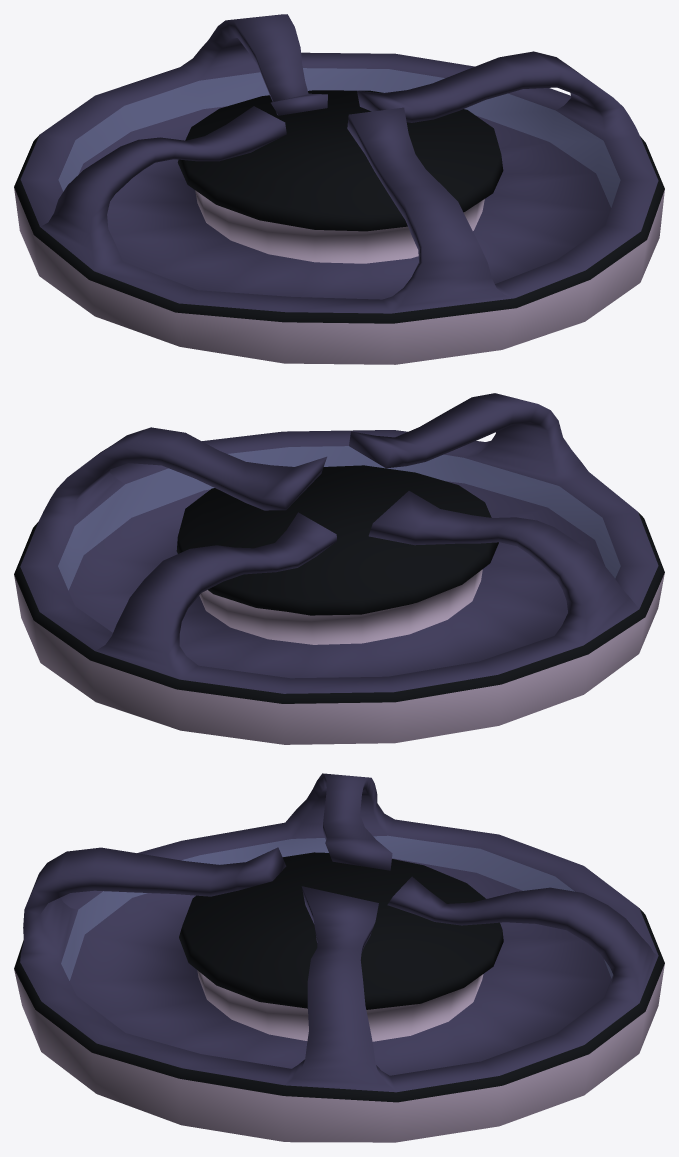
The model's file is hotplate02.fbx.
3 views of the same model, one above another, from view 1: azimuth 30°, elevation 25°; view 2: azimuth 150°, elevation 25°; view 3: azimuth 270°, elevation 25° (orthographic).
Parts seen in each view (by area): view 1: hotplate02; view 2: hotplate02; view 3: hotplate02.
Boxes of the visible parts, x1,y1,x2,y2 form: hotplate02: (14,14,664,364); hotplate02: (14,393,664,744); hotplate02: (14,773,664,1142).
Bounding box in the file's own units: 55.08 × 14.44 × 55.94.
